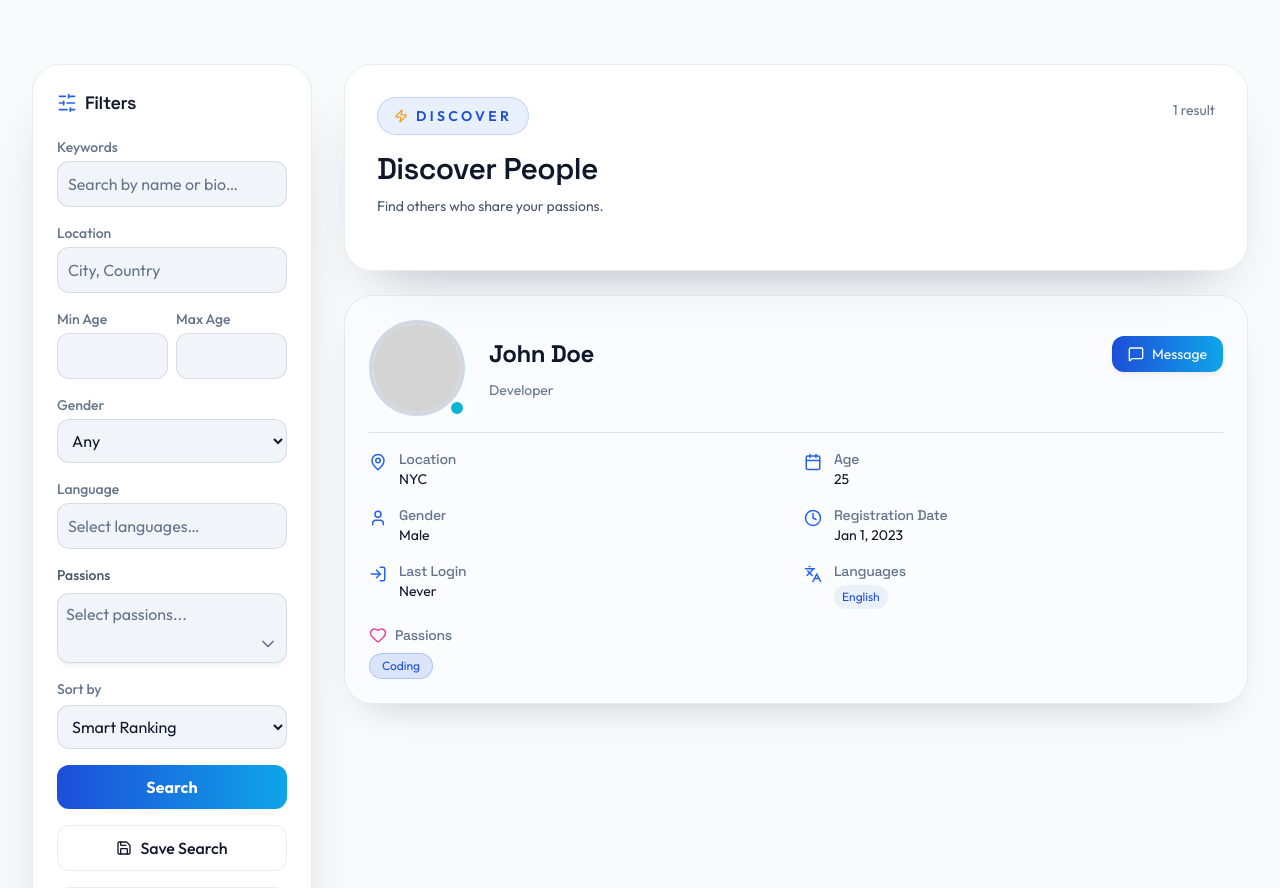
Scenario: Search Page › clears filters
Expected: the heading "Discover People" is shown, left=377, top=151, right=604, bottom=187
In the field with placeholder "Search by name or bio…": (172, 184) left=57, top=161, right=287, bottom=207, type "test query"
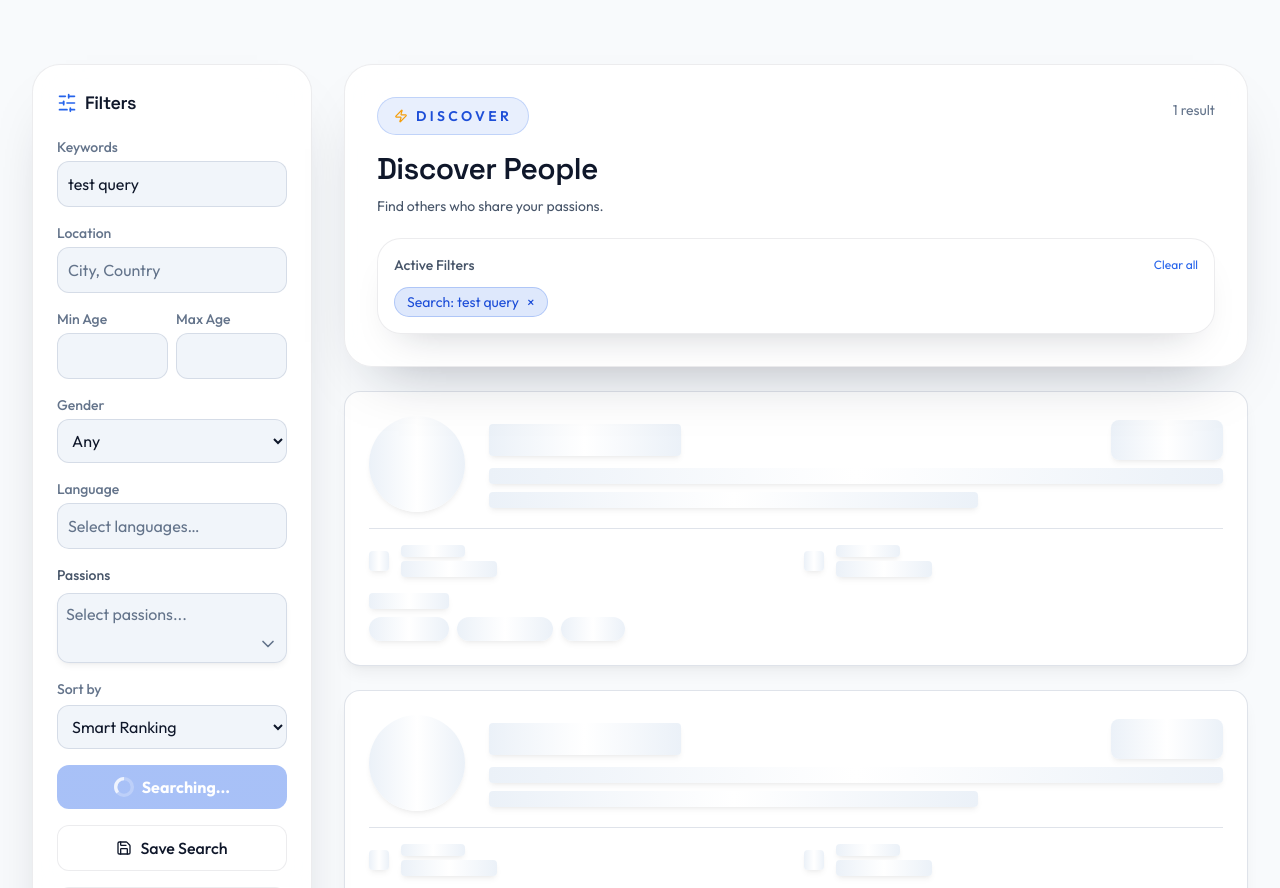
Click the button "Clear all": (1176, 265) left=1154, top=257, right=1198, bottom=273
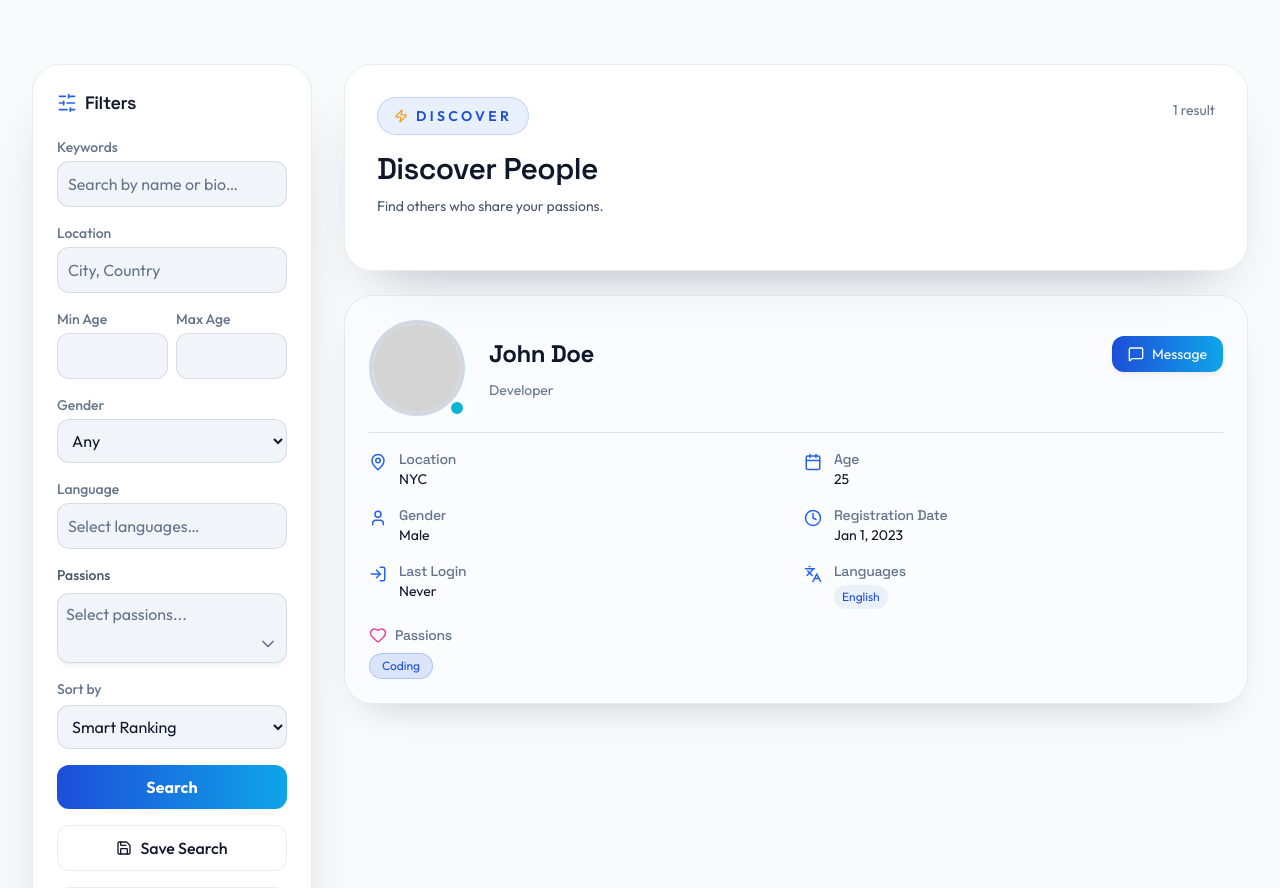
Result: the field with placeholder "Search by name or bio…" is empty at left=57, top=161, right=287, bottom=207
